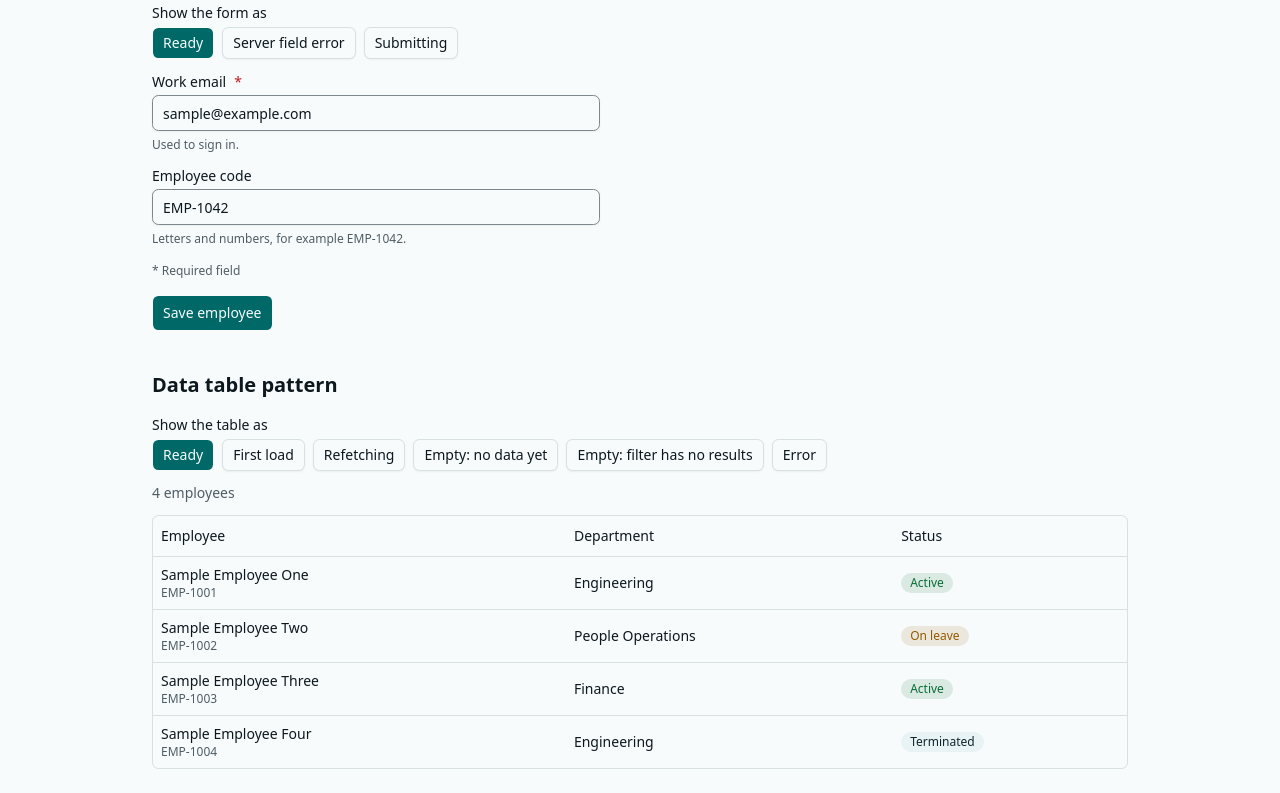
Test case: FoundationPreview › data table states › tells "no data yet" apart from "no results for this filter"
(page scrolled)
Click the button "Empty: no data yet" at (486, 455), box x1=414 y1=439 x2=558 y2=471
(page scrolled)
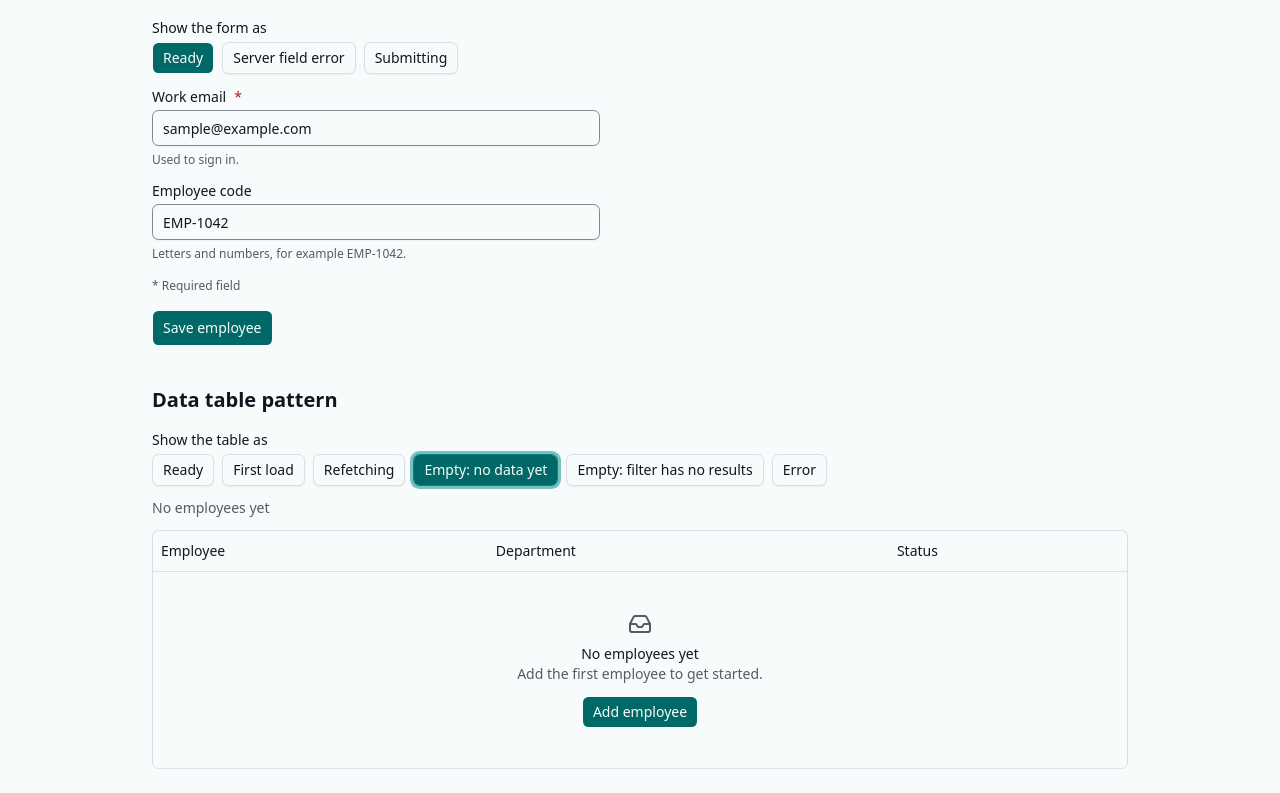
Check: the text "Add the first employee to get started." is shown, box x1=517 y1=664 x2=763 y2=682
Check: the button "Add employee" is shown, box x1=582 y1=696 x2=698 y2=728
Click the button "Empty: filter has no results" at (665, 470), box x1=566 y1=454 x2=764 y2=486
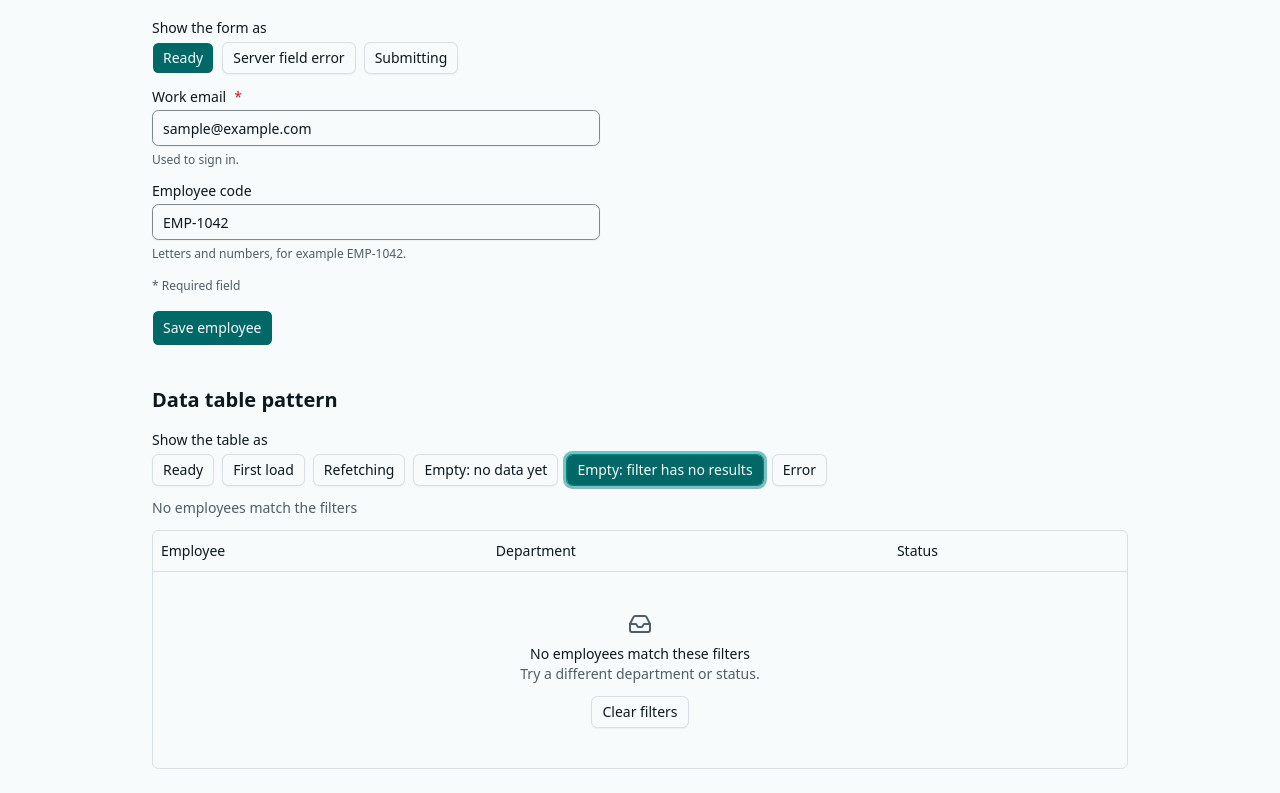
Check: the text "Try a different department or status." is shown, box x1=520 y1=664 x2=760 y2=682
Check: the button "Clear filters" is shown, box x1=591 y1=696 x2=688 y2=728
